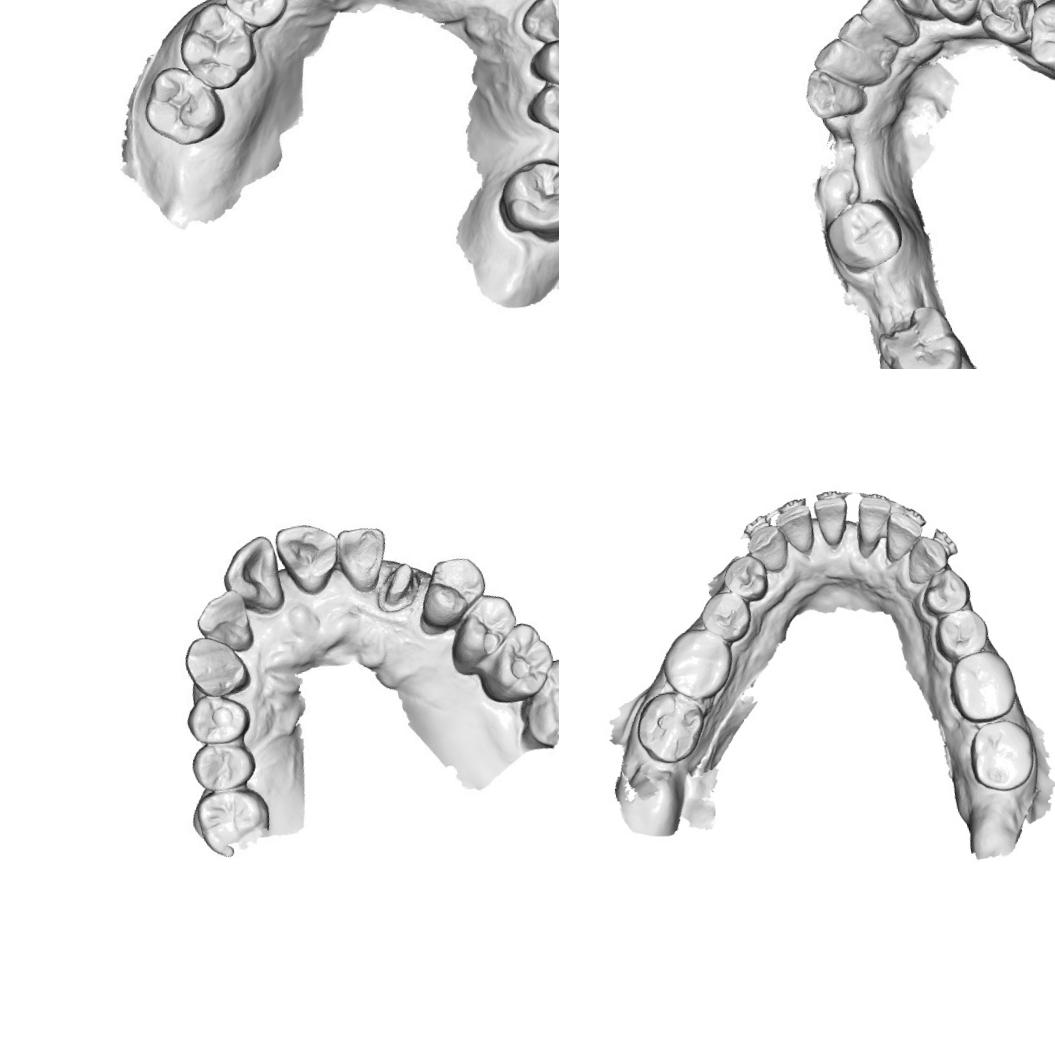canine: (179, 627, 254, 703), (741, 520, 793, 579), (899, 530, 952, 587), (515, 0, 559, 48), (888, 0, 943, 29)
crown: (372, 556, 425, 613)
incisor: (271, 514, 348, 600), (214, 531, 286, 620), (808, 29, 892, 98), (190, 584, 258, 660), (330, 520, 396, 597), (798, 59, 870, 124), (832, 6, 894, 68), (877, 505, 928, 564), (854, 0, 913, 50), (850, 488, 899, 548), (771, 500, 819, 558), (810, 492, 855, 550)
molar: (169, 0, 262, 97), (136, 57, 230, 152), (469, 616, 559, 709), (654, 618, 740, 706), (868, 295, 970, 369), (823, 190, 909, 276), (188, 782, 278, 864), (629, 684, 714, 770), (490, 152, 559, 252), (962, 714, 1042, 798), (943, 644, 1022, 728), (1017, 0, 1055, 89)
premolar: (440, 588, 525, 671), (409, 550, 494, 633), (185, 736, 262, 796), (181, 686, 254, 748), (694, 584, 756, 648), (929, 605, 994, 666), (972, 0, 1045, 51), (915, 562, 974, 620), (718, 549, 774, 607), (217, 0, 292, 34), (522, 75, 559, 143), (524, 30, 559, 97), (923, 0, 990, 34)
